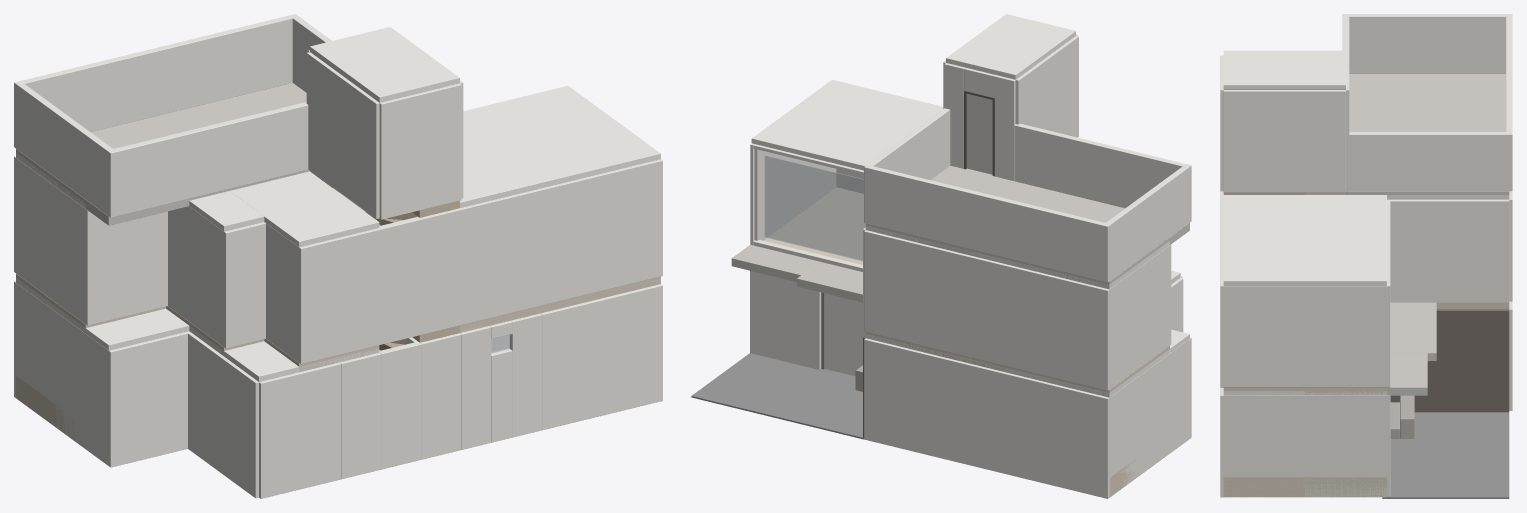
Rendered from house.glb.
3 renders of one model, left to right at view 1: azimuth 30°, elevation 25°; view 2: azimuth 150°, elevation 25°; view 3: azimuth 270°, elevation 25°, orthographic. The views are drawn at different scales.
Parts seen in each view (by area): view 1: 2f-ext-north, ph-balc-s, ceil-2f-ne, 1f-north-senmen, ph-balc-n, 1f-west-ldk, ph-hall-n, 1f-north-yoshitsu, 1f-ldk-north-jog, ph-hall-w, 1f-west-yoshitsu, 2f-int-sroom-n-solid-0 (+21 smaller); view 2: 2f-ext-south-w, 1f-south-ldk-b, ph-balc-s, ceil-2f-ne, 1f-south-ldk-a, ph-balc-n, parking-1f, Win_2f-win-ne-g2, 1f-west-ldk, 2f-ext-west-s, 1f-south-ub, ph-balcony (+20 smaller); view 3: 2f-ext-east, ceil-2f-ne, 1f-east, ph-hall-e, 2f-ext-s-block-e, ph-balcony, parking-1f, ph-balc-e, ph-balc-w, 1f-jog-ldk-east, ceil-ph-hall, 2f-balcony-w (+19 smaller).
Boxes of the visible parts, <box> form: 2f-ext-north: <box>297,159,662,364</box>; ph-balc-s: <box>14,14,297,149</box>; ceil-2f-ne: <box>460,86,660,207</box>; 1f-north-senmen: <box>540,284,662,430</box>; ph-balc-n: <box>107,102,308,217</box>; 1f-west-ldk: <box>16,283,108,465</box>; ph-hall-n: <box>379,83,461,219</box>; 1f-north-yoshitsu: <box>259,362,340,498</box>; 1f-ldk-north-jog: <box>107,331,190,467</box>; ph-hall-w: <box>306,52,379,219</box>; 1f-west-yoshitsu: <box>188,331,258,498</box>; 2f-int-sroom-n-solid-0: <box>83,208,167,325</box>; 2f-ext-south-w: <box>864,230,1110,390</box>; 1f-south-ldk-b: <box>864,338,1025,478</box>; ph-balc-s: <box>864,165,1110,282</box>; ceil-2f-ne: <box>751,79,943,170</box>; 1f-south-ldk-a: <box>1024,377,1110,498</box>; ph-balc-n: <box>1014,123,1191,222</box>; parking-1f: <box>691,353,863,439</box>; Win_2f-win-ne-g2: <box>764,155,865,260</box>; 1f-west-ldk: <box>1111,340,1189,488</box>; 2f-ext-west-s: <box>1110,246,1168,388</box>; 1f-south-ub: <box>750,270,821,369</box>; ph-balcony: <box>865,165,1189,288</box>; 2f-ext-east: <box>1224,286,1386,387</box>; ceil-2f-ne: <box>1223,195,1386,285</box>; 1f-east: <box>1224,395,1386,496</box>; ph-hall-e: <box>1223,90,1345,192</box>; 2f-ext-s-block-e: <box>1387,199,1509,302</box>; ph-balcony: <box>1346,73,1509,194</box>; parking-1f: <box>1382,412,1509,498</box>; ph-balc-e: <box>1346,132,1508,191</box>; ph-balc-w: <box>1349,14,1508,73</box>; 1f-jog-ldk-east: <box>1390,309,1509,412</box>; ceil-ph-hall: <box>1223,50,1345,89</box>; 2f-balcony-w: <box>1390,302,1436,361</box>.
Bounding box in the file's own units: 10.92 × 8.06 × 6.52.
